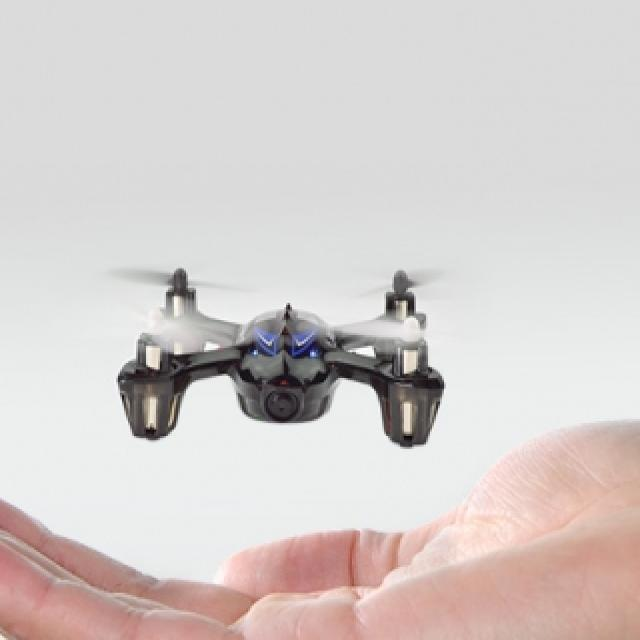drone: (64, 238, 504, 451)
